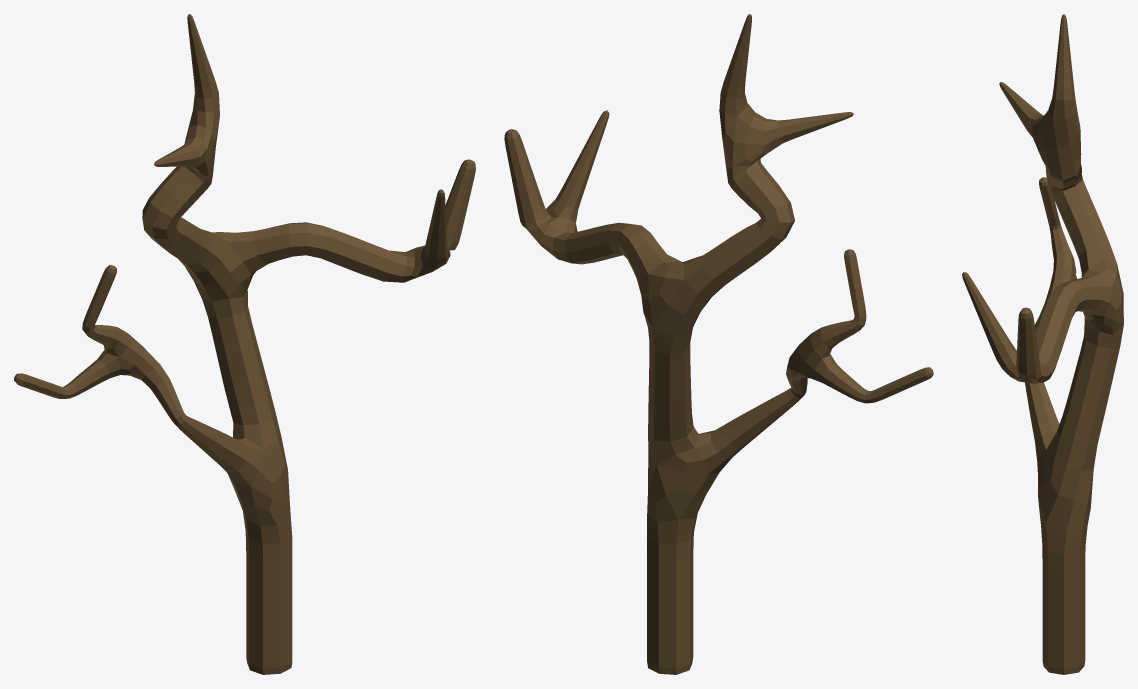
The model's file is RamaG02.fbx.
3 renders of one model, left to right at view 1: azimuth 30°, elevation 25°; view 2: azimuth 150°, elevation 25°; view 3: azimuth 270°, elevation 25°, orthographic. The views are drawn at different scales.
Parts seen in each view (by area): view 1: Plane; view 2: Plane; view 3: Plane.
Boxes of the visible parts, <box> form: Plane: <box>14,14,475,674</box>; Plane: <box>504,14,933,674</box>; Plane: <box>962,14,1123,674</box>.
Bounding box in the file's own units: 504 × 731 × 173.
